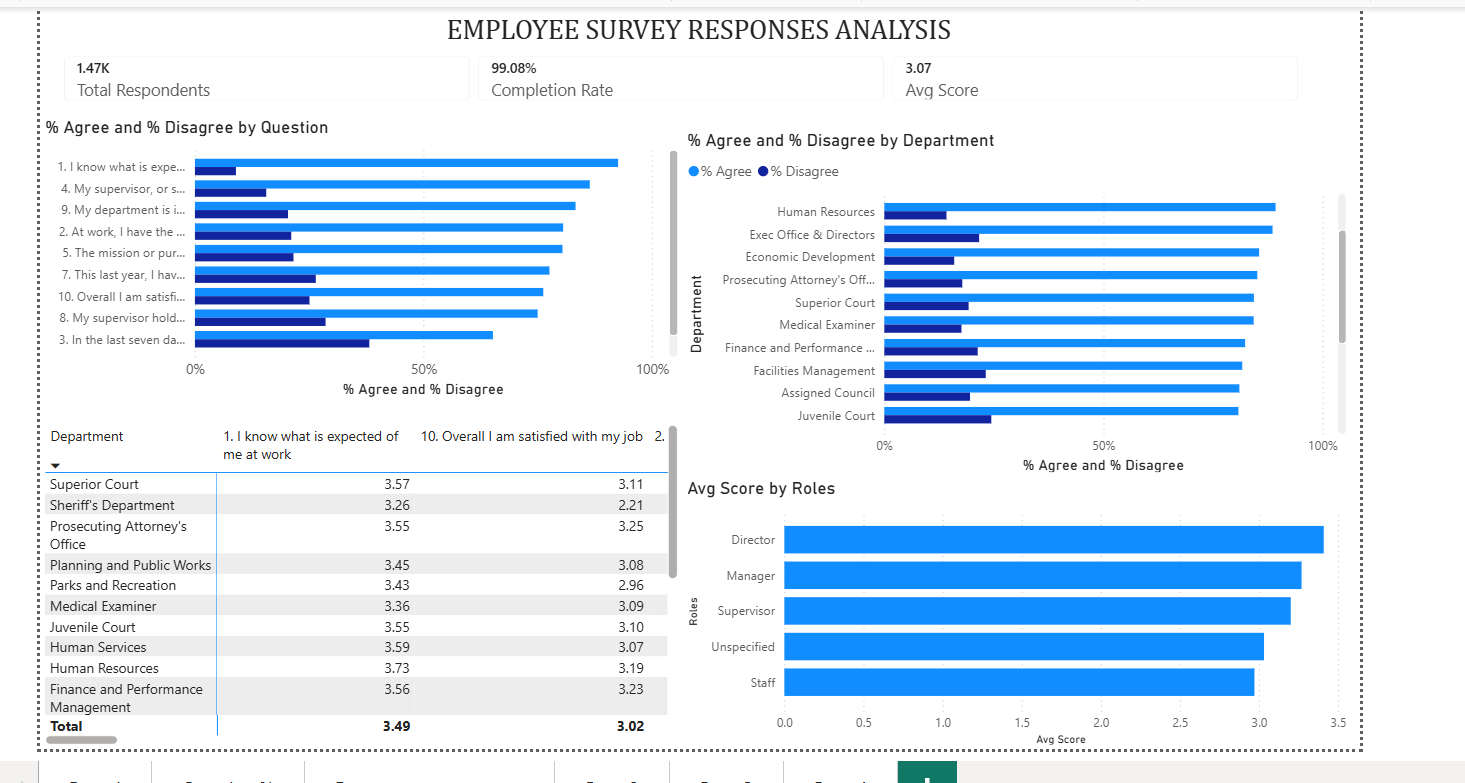

What the dashboard file says about the page in this screenshot:
{"tool":"powerbi","page":{"name":"Page 1","canvas":[1280,720],"ordinal":0},"visuals":[{"type":"cardVisual","fields":{"Data":["Employee Survey - HR Survey Reponses.Total Respondents","Employee Survey - HR Survey Reponses.Completion Rate","Employee Survey - HR Survey Reponses.Avg Score"]},"box":[6.1,30.3,1234.1,77.2],"z":0},{"type":"textbox","box":[11.3,0,1254.9,43.7],"z":1000},{"type":"clusteredBarChart","fields":{"Category":["Employee Survey - HR Survey Reponses.Question"],"Y":["Employee Survey - HR Survey Reponses.% Agree","Employee Survey - HR Survey Reponses.% Disagree"]},"box":[0,106.9,623.4,276.9],"z":3000},{"type":"clusteredBarChart","fields":{"Category":["Employee Survey - HR Survey Reponses.Department"],"Y":["Employee Survey - HR Survey Reponses.% Agree","Employee Survey - HR Survey Reponses.% Disagree"]},"box":[623.4,119.8,649.3,336.8],"z":4000},{"type":"pivotTable","fields":{"Rows":["Employee Survey - HR Survey Reponses.Department"],"Columns":["Employee Survey - HR Survey Reponses.Question"],"Values":["Employee Survey - HR Survey Reponses.Avg Score"]},"box":[0,399.9,623.4,320.6],"z":5000},{"type":"clusteredBarChart","fields":{"Category":["Employee Survey - HR Survey Reponses.Roles"],"Y":["Employee Survey - HR Survey Reponses.Avg Score"]},"box":[623.4,456.6,649.3,263.9],"z":6000}]}

Visuals, with their boxes on the page's 1280x720 design canvas (x1, y1, x2, y2). These are canvas units, not pixel positions in the 1465x783 screenshot, which may show the page scaled, cropped or inside an application window:
cardVisual - Employee Survey - HR Survey Reponses.Total Respondents x Employee Survey - HR Survey Reponses.Completion Rate: rect(6, 30, 1240, 108)
textbox: rect(11, 0, 1266, 44)
clusteredBarChart - Employee Survey - HR Survey Reponses.Question x Employee Survey - HR Survey Reponses.% Agree: rect(0, 107, 623, 384)
clusteredBarChart - Employee Survey - HR Survey Reponses.Department x Employee Survey - HR Survey Reponses.% Agree: rect(623, 120, 1273, 457)
pivotTable - Employee Survey - HR Survey Reponses.Department x Employee Survey - HR Survey Reponses.Question: rect(0, 400, 623, 720)
clusteredBarChart - Employee Survey - HR Survey Reponses.Roles x Employee Survey - HR Survey Reponses.Avg Score: rect(623, 457, 1273, 720)
